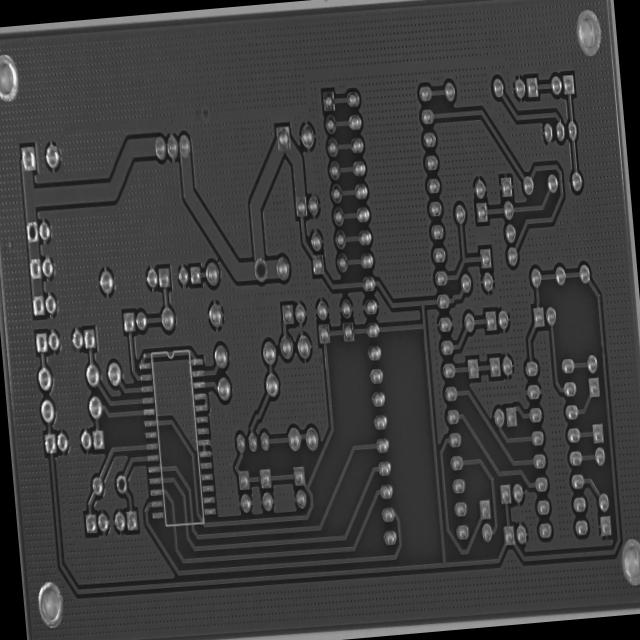missing_hole: (252, 254, 269, 283), (24, 218, 39, 244), (114, 468, 128, 494)
